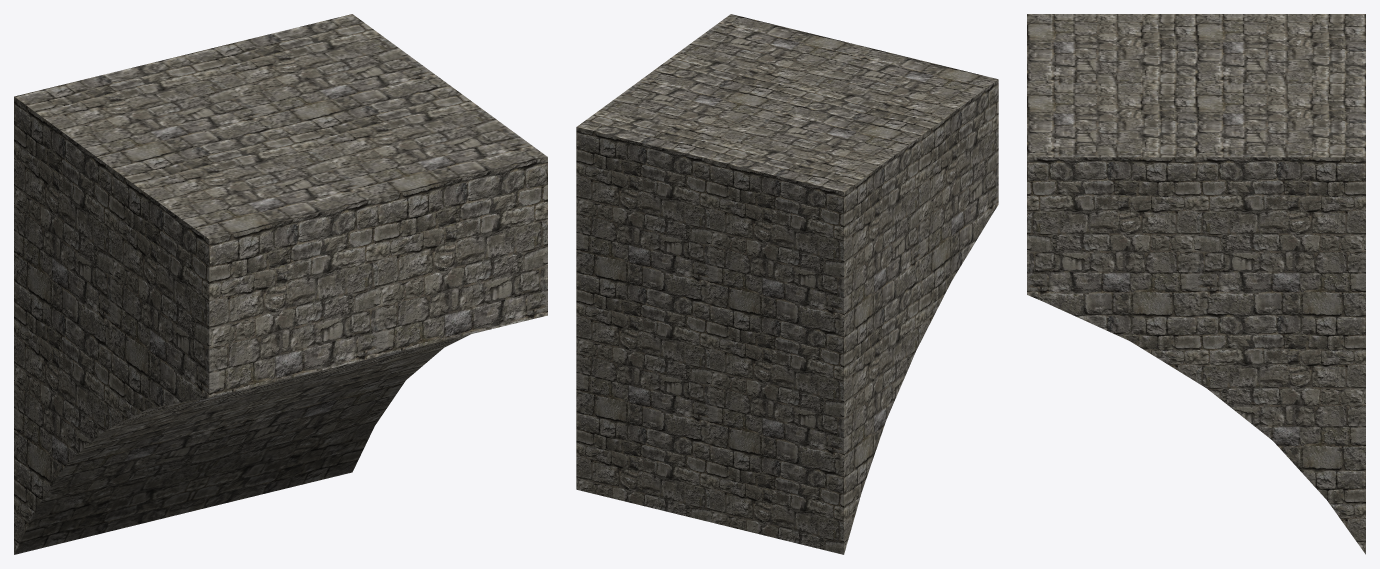
File: StoneBridge_AbutmentCenter.dae
3 renders of one model, left to right at view 1: azimuth 30°, elevation 25°; view 2: azimuth 150°, elevation 25°; view 3: azimuth 270°, elevation 25°, orthographic. The views are drawn at different scales.
Visible parts, largest first — view 1: StoneBridgeAbutmentCenter, AbutmentDoubleCenter2; view 2: StoneBridgeAbutmentCenter; view 3: StoneBridgeAbutmentCenter.
Boxes of the visible parts, <box> form: StoneBridgeAbutmentCenter: <box>14,14,547,554</box>; AbutmentDoubleCenter2: <box>14,334,470,554</box>; StoneBridgeAbutmentCenter: <box>576,14,998,554</box>; StoneBridgeAbutmentCenter: <box>1027,14,1365,554</box>.
Size of the model in its own units: 4 by 5.18 by 4.
Materials: 2 (2 with a texture image).
